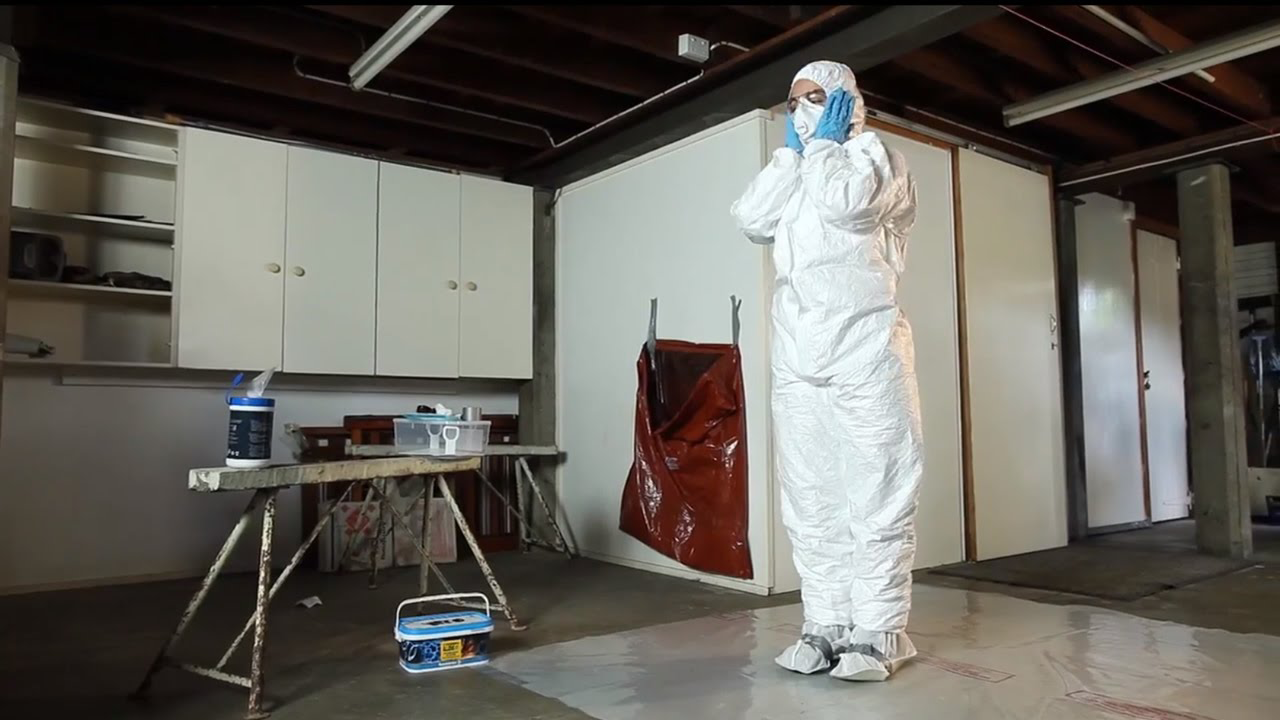Coverall: (728, 60, 921, 683)
Gloves: (819, 90, 853, 140), (785, 115, 803, 150)
Goggles: (783, 88, 828, 108)
with_mask: (794, 98, 820, 140)
